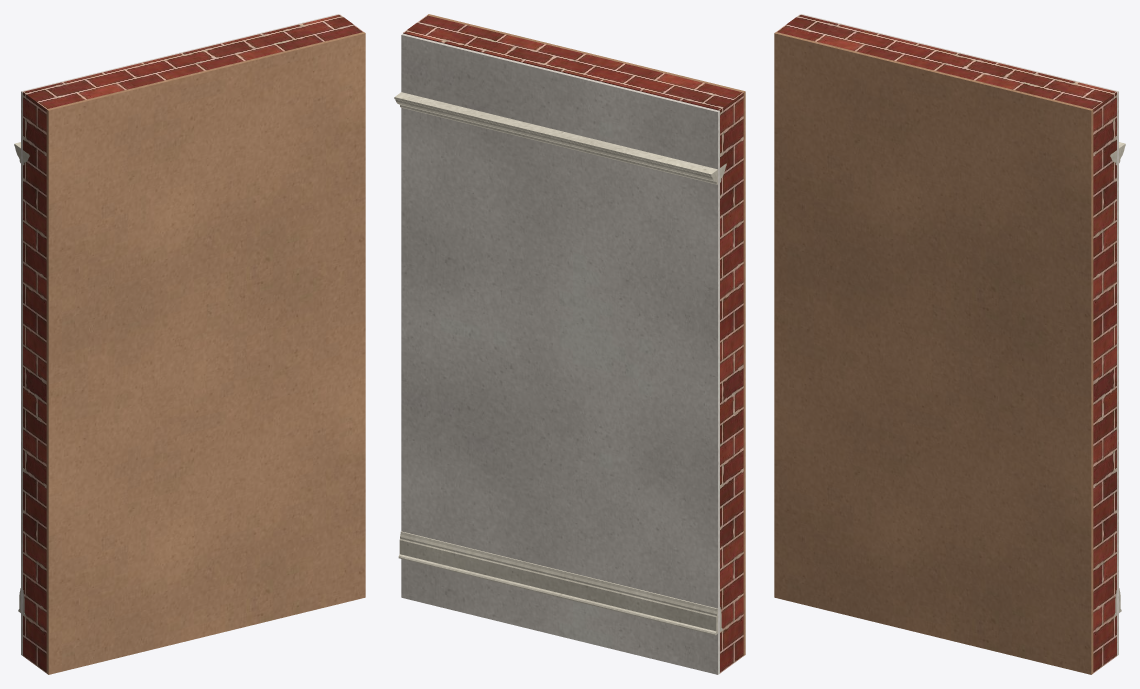
Rendered from b_u1_plain.glb.
3 views of the same model, side by side, from view 1: azimuth 30°, elevation 25°; view 2: azimuth 150°, elevation 25°; view 3: azimuth 330°, elevation 25° (orthographic).
Parts seen in each view (by area): view 1: b_u1_plain_aplaster, b_u1_plain_brick, b_u1_plain_plaster; view 2: b_u1_plain_plaster, b_u1_plain_brick, molduras, b_u1_plain_aplaster; view 3: b_u1_plain_aplaster, b_u1_plain_brick, b_u1_plain_plaster.
Boxes of the visible parts, x1,y1,x2,y2 form: b_u1_plain_aplaster: (46,32,365,674); b_u1_plain_brick: (23,14,363,673); b_u1_plain_plaster: (21,14,338,655); b_u1_plain_plaster: (401,33,719,674); b_u1_plain_brick: (403,15,743,673); molduras: (394,92,726,635); b_u1_plain_aplaster: (427,14,745,655); b_u1_plain_aplaster: (774,32,1093,674); b_u1_plain_brick: (776,14,1116,673); b_u1_plain_plaster: (801,14,1118,655).
Size of the model in its own units: 2 by 3.4 by 0.375.
4 materials, 4 textured.
